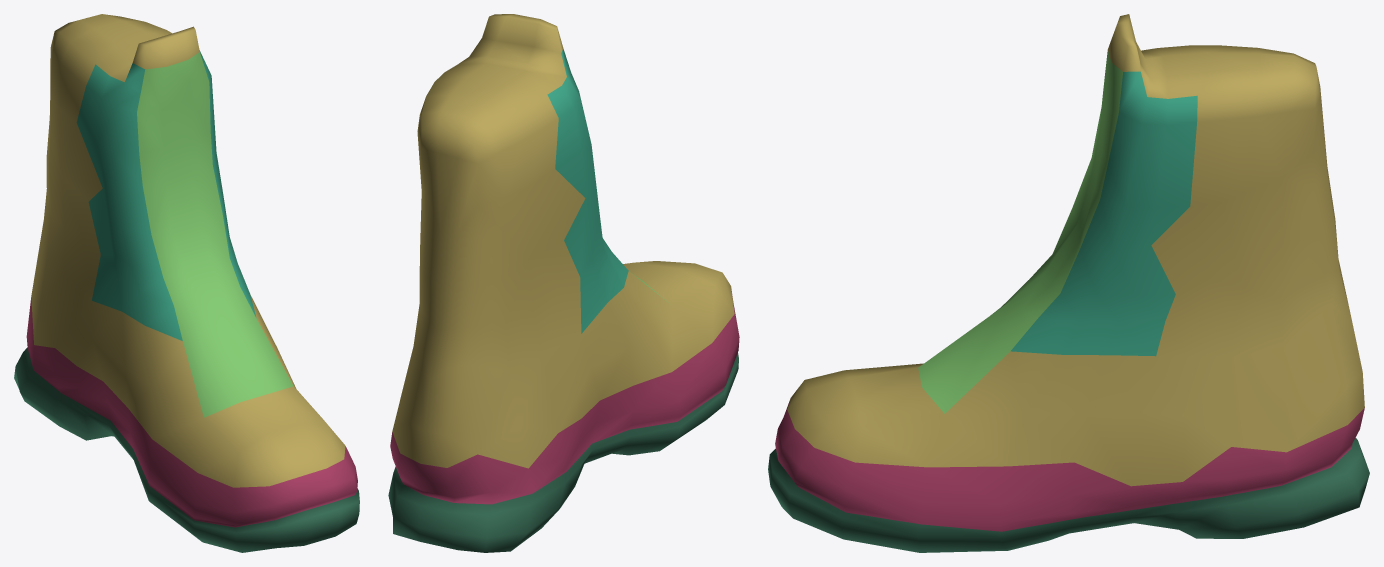
Rendered from Boot.fbx.
3 views of the same model, side by side, from view 1: azimuth 30°, elevation 25°; view 2: azimuth 150°, elevation 25°; view 3: azimuth 270°, elevation 25° (orthographic). The views are drawn at different scales.
Visible parts, largest first — view 1: BootLowres.L; view 2: BootLowres.L; view 3: BootLowres.L.
Boxes of the visible parts, x1,y1,x2,y2 form: BootLowres.L: (14,14,359,552); BootLowres.L: (388,14,739,552); BootLowres.L: (768,14,1369,552).
Size of the model in its own units: 355 by 840 by 929.
